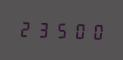five: (52, 19, 68, 40)
three: (35, 19, 51, 39)
two: (18, 18, 34, 39)
zero: (86, 20, 102, 41), (69, 20, 85, 40)
